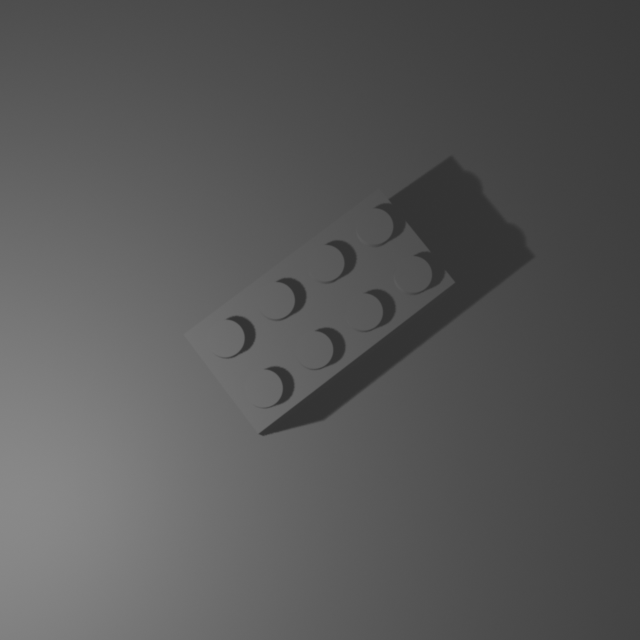lego_2x4: (182, 184, 457, 436)
